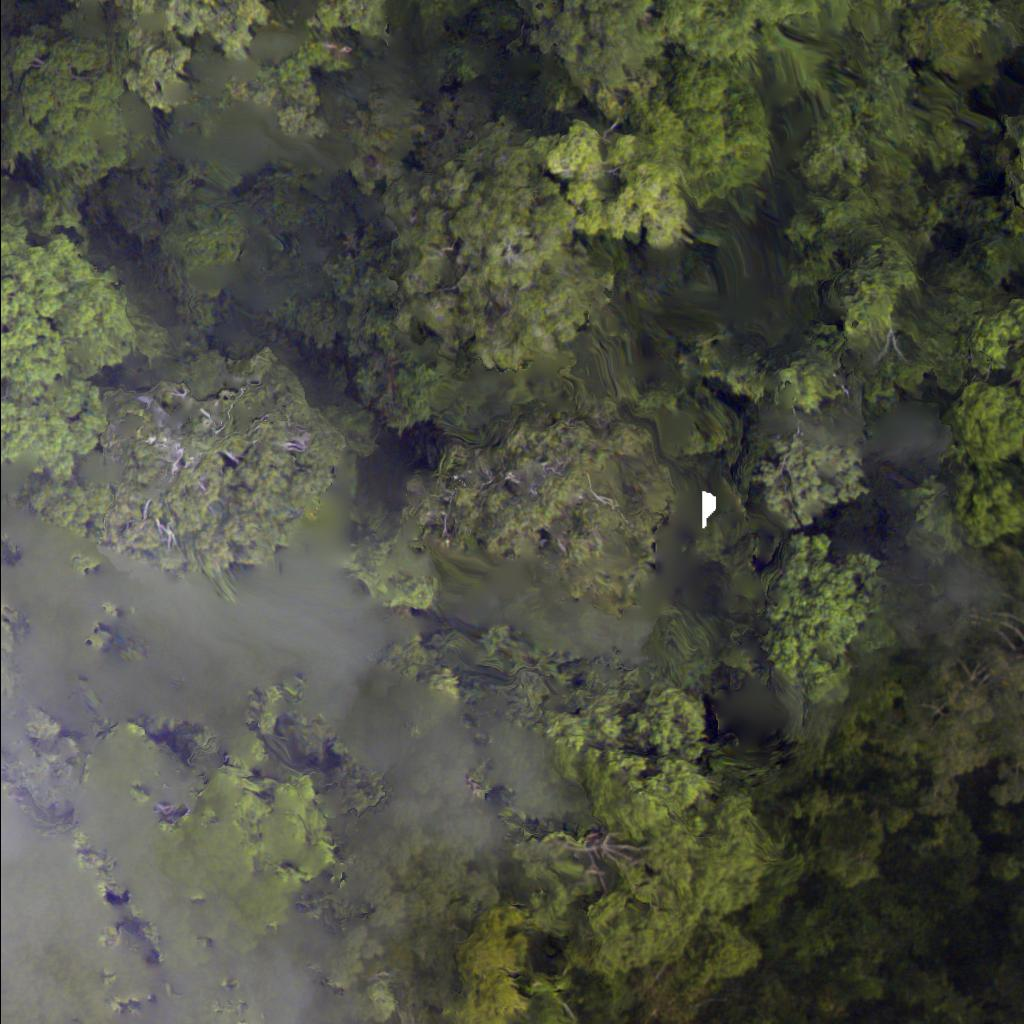crown: (441, 693, 795, 1023), (325, 96, 637, 451), (369, 440, 681, 619), (96, 380, 345, 587), (0, 225, 165, 493), (915, 591, 1023, 800), (0, 44, 135, 202), (979, 318, 1023, 534), (0, 158, 15, 231)
